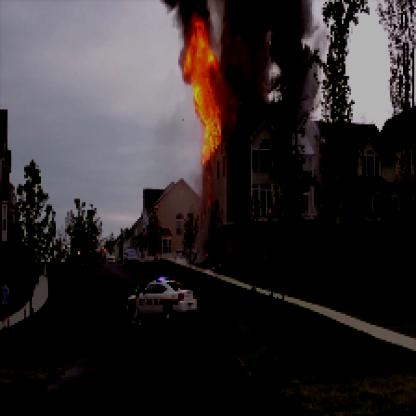Fire: (176, 15, 226, 160)
Smoke: (210, 2, 317, 135)
